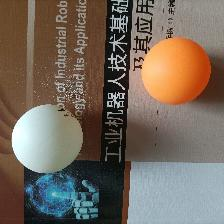WhiteBall: (10, 103, 83, 174)
YellowBall: (139, 36, 211, 105)
